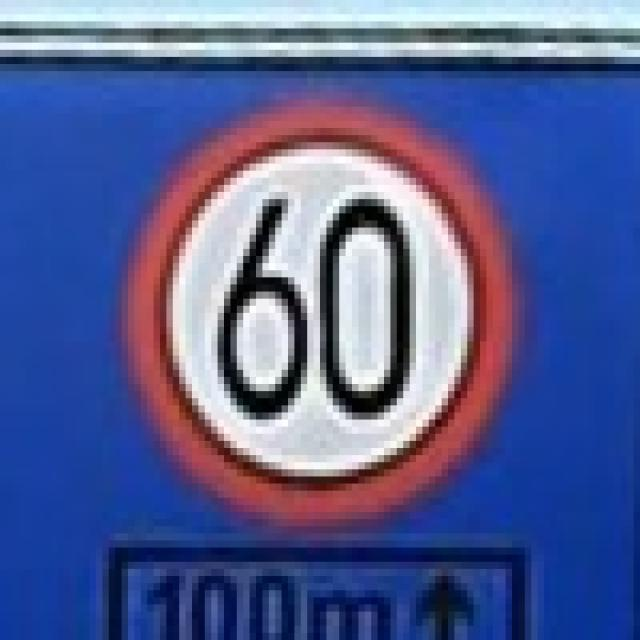Speed Limit -60-: (214, 190, 422, 427)
